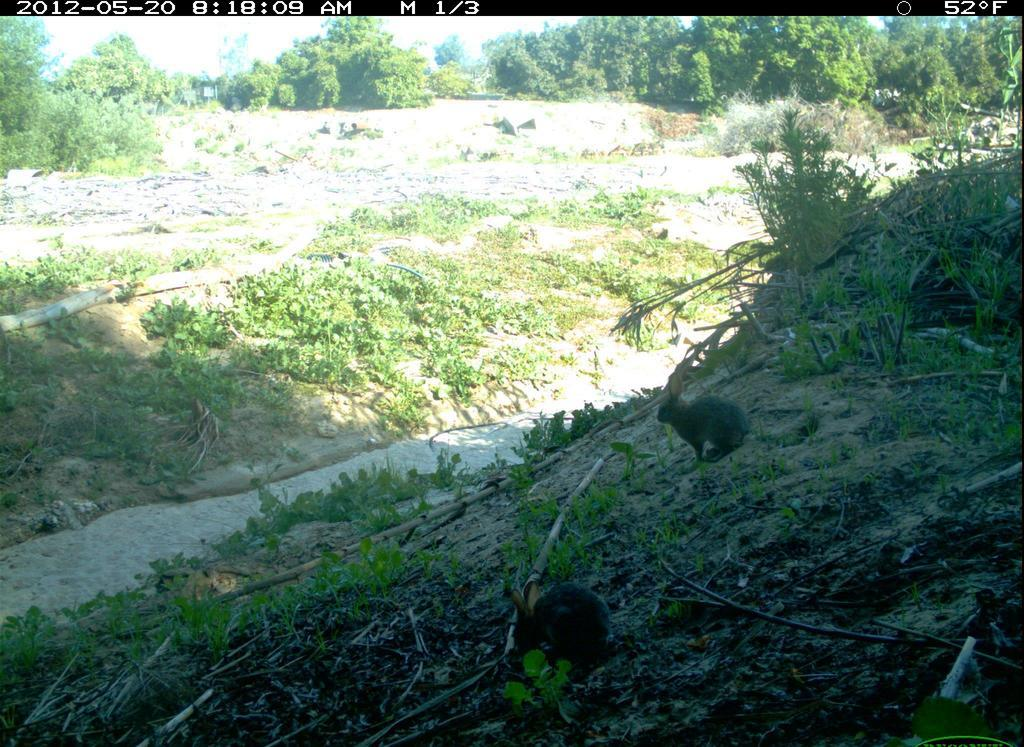rabbit: (502, 569, 674, 687), (643, 369, 761, 477)
